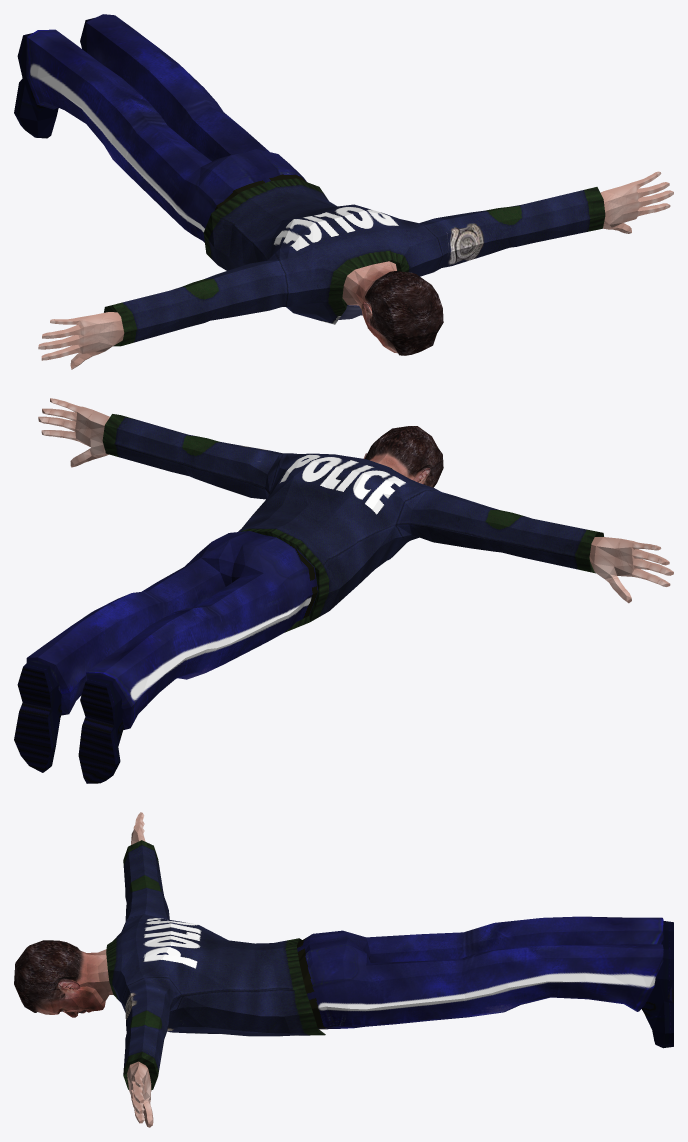
The model's file is tomdrinman5_police_wtf.obj.
The picture shows the model from 3 angles, top to bottom: view 1: azimuth 30°, elevation 25°; view 2: azimuth 150°, elevation 25°; view 3: azimuth 270°, elevation 25°; orthographic projection. The views are drawn at different scales.
Visible parts, largest first — view 1: group1; view 2: group1; view 3: group1.
Part boxes in pixels (x1,y1,x2,y2): group1: (14, 14, 673, 369); group1: (14, 398, 673, 783); group1: (14, 812, 673, 1127).
Size of the model in its own units: 660 by 113 by 647.
